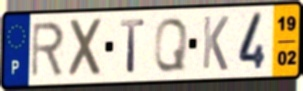4: (236, 10, 271, 75)
K: (200, 14, 231, 73)
Q: (152, 16, 190, 74)
R: (30, 19, 67, 80)
T: (118, 18, 147, 76)
X: (68, 16, 106, 80)
